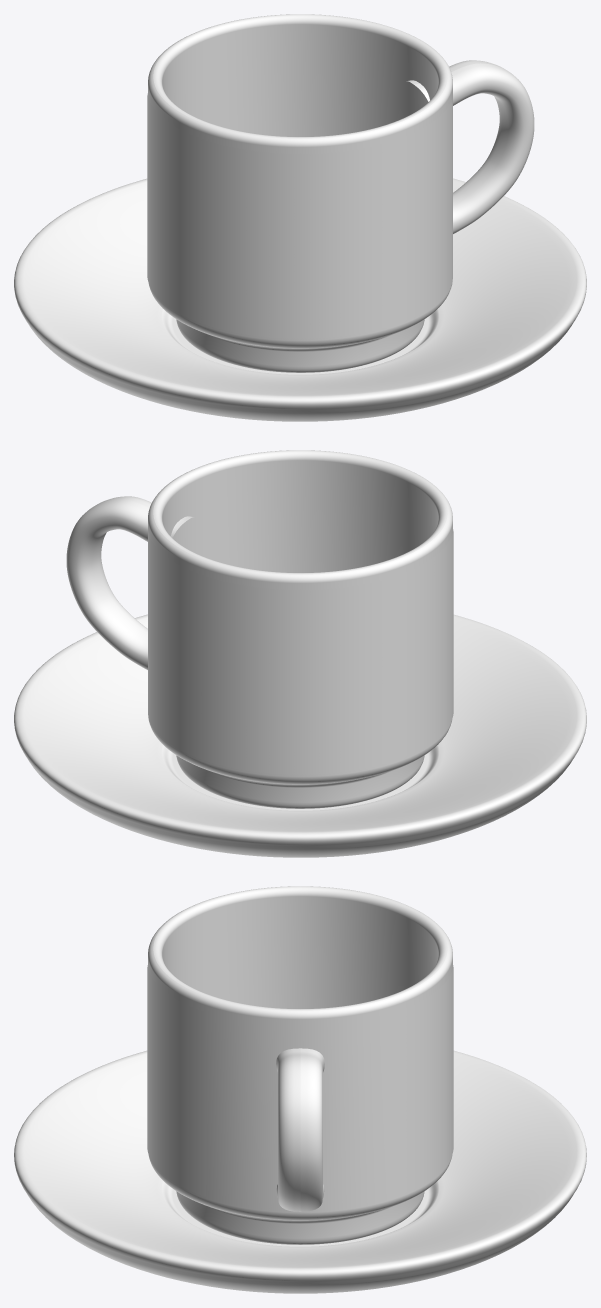
Rendered from xicara_180ml.glb.
3 renders of one model, top to bottom at view 1: azimuth 30°, elevation 25°; view 2: azimuth 150°, elevation 25°; view 3: azimuth 270°, elevation 25°, orthographic.
Parts seen in each view (by area): view 1: Pires_Porcelana, Area_Arte, Interior_Xicara, Corpo_Externo_Xicara, Alca_Xicara; view 2: Pires_Porcelana, Area_Arte, Interior_Xicara, Corpo_Externo_Xicara, Alca_Xicara; view 3: Pires_Porcelana, Corpo_Externo_Xicara, Interior_Xicara, Area_Arte, Alca_Xicara.
Part boxes in pixels (left/top/right/bottom): Pires_Porcelana: left=14, top=178, right=586, bottom=421; Area_Arte: left=147, top=93, right=452, bottom=338; Interior_Xicara: left=153, top=14, right=447, bottom=138; Corpo_Externo_Xicara: left=148, top=14, right=452, bottom=372; Alca_Xicara: left=406, top=60, right=534, bottom=233; Pires_Porcelana: left=14, top=614, right=586, bottom=857; Area_Arte: left=148, top=529, right=453, bottom=774; Interior_Xicara: left=153, top=450, right=447, bottom=574; Corpo_Externo_Xicara: left=148, top=450, right=452, bottom=808; Alca_Xicara: left=66, top=496, right=194, bottom=669; Pires_Porcelana: left=14, top=1050, right=586, bottom=1293; Corpo_Externo_Xicara: left=148, top=886, right=452, bottom=1244; Interior_Xicara: left=153, top=886, right=447, bottom=1010; Area_Arte: left=147, top=965, right=453, bottom=1196; Alca_Xicara: left=276, top=1048, right=324, bottom=1211.
Size of the model in its own units: 0.1435 by 0.0736 by 0.1435.
4 materials, 1 textured.
